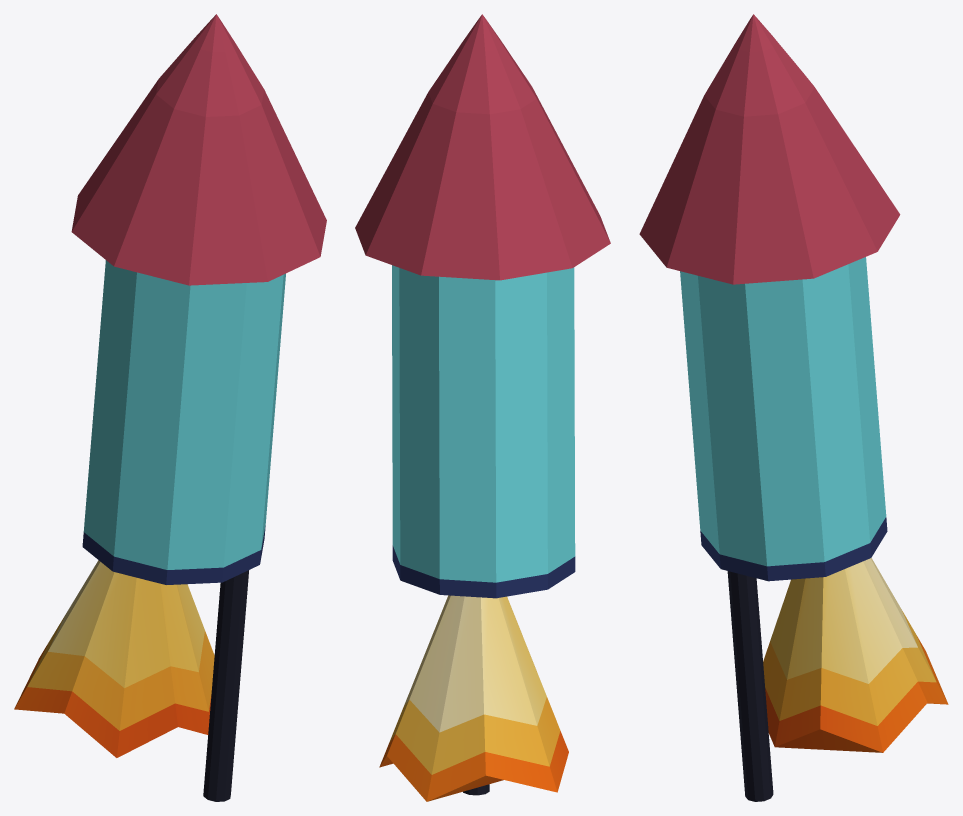
The model's file is Sign_FakeBoom.fbx.
The picture shows the model from 3 angles, left to right: view 1: azimuth 30°, elevation 25°; view 2: azimuth 150°, elevation 25°; view 3: azimuth 270°, elevation 25°; orthographic projection.
Parts seen in each view (by area): view 1: Cylinder.327, Cylinder.328; view 2: Cylinder.327, Cylinder.328; view 3: Cylinder.327, Cylinder.328.
Boxes of the visible parts, x1,y1,x2,y2 form: Cylinder.327: [71, 14, 326, 801]; Cylinder.328: [14, 560, 214, 757]; Cylinder.327: [355, 14, 610, 795]; Cylinder.328: [379, 595, 568, 801]; Cylinder.327: [639, 14, 900, 801]; Cylinder.328: [763, 558, 948, 752].
Size of the model in its own units: 109 by 342 by 123.
